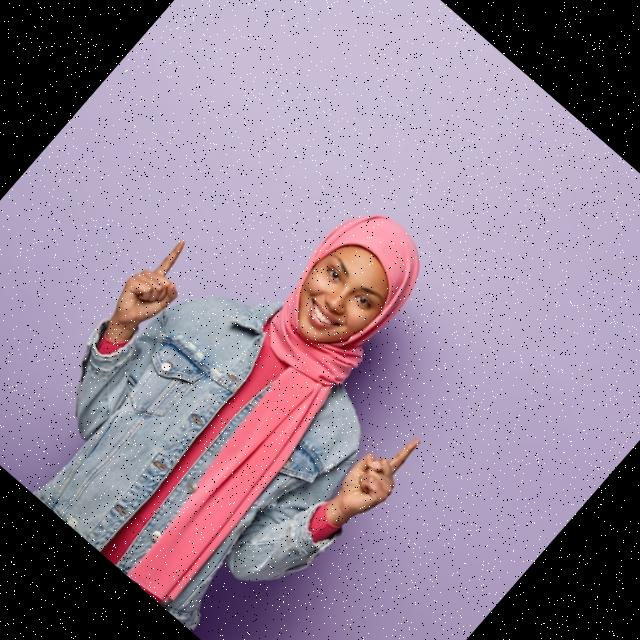Person: (0, 114, 527, 640)
